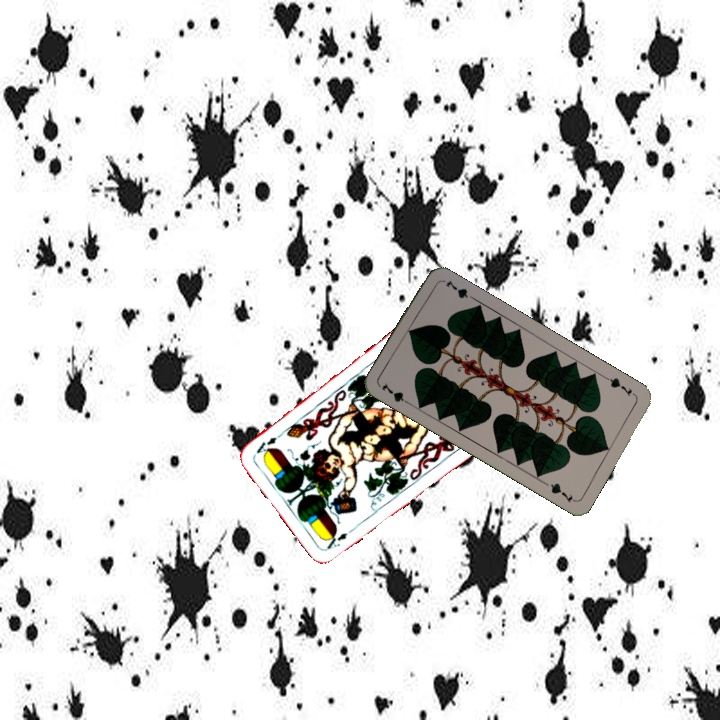EA: (322, 523, 358, 552)
G7: (377, 379, 414, 408), (602, 373, 639, 399)
